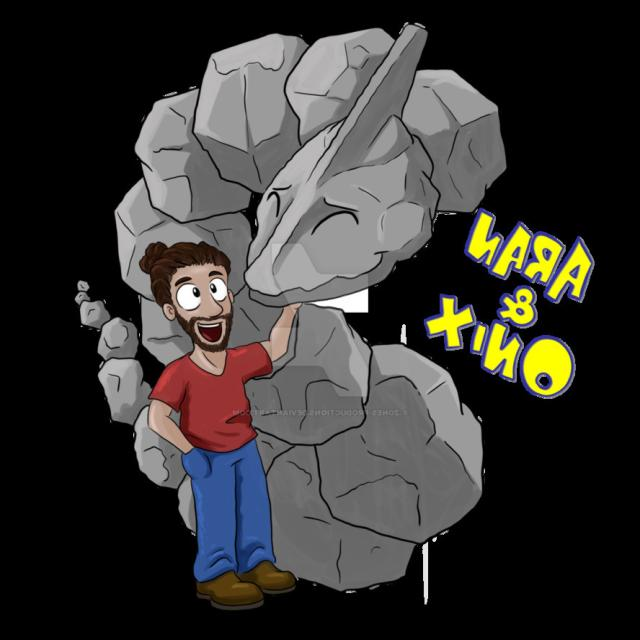Onix: (112, 31, 501, 578)
